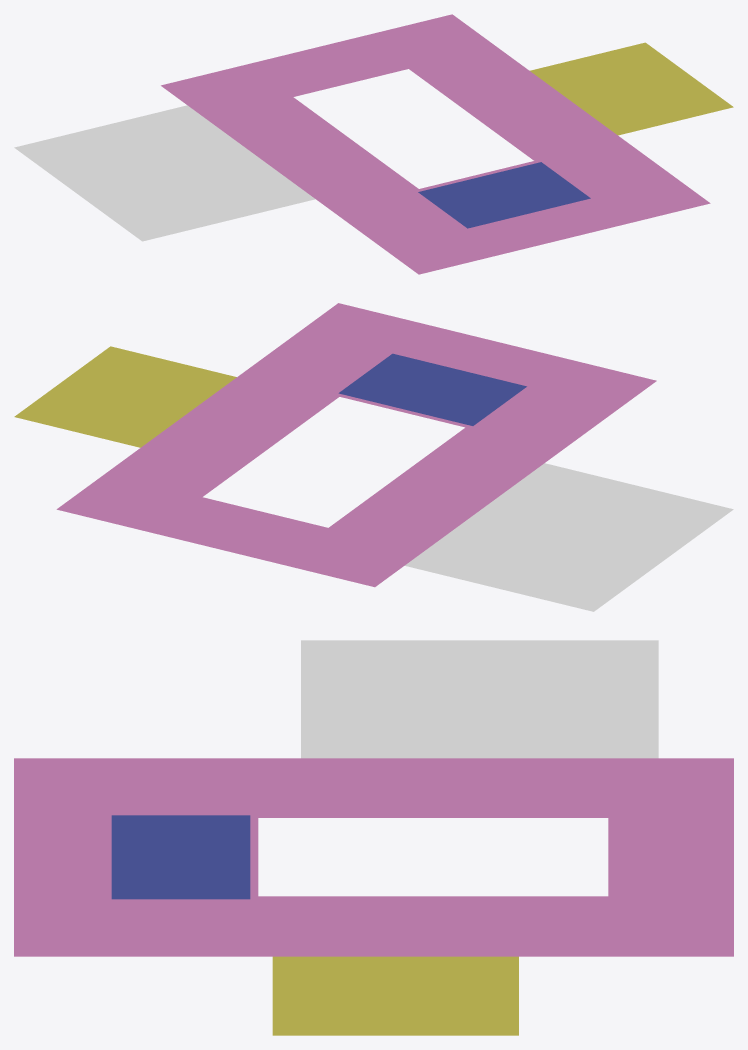
The model's file is Floors.fbx.
3 views of the same model, one above another, from view 1: azimuth 30°, elevation 25°; view 2: azimuth 150°, elevation 25°; view 3: azimuth 270°, elevation 25° (orthographic). The views are drawn at different scales.
Parts seen in each view (by area): view 1: polySurface2; view 2: polySurface2; view 3: polySurface2.
Boxes of the visible parts, <box> form: polySurface2: <box>14,14,733,274</box>; polySurface2: <box>14,303,733,611</box>; polySurface2: <box>14,640,733,1035</box>.
Bounding box in the file's own units: 47130 × 0 × 36290.
